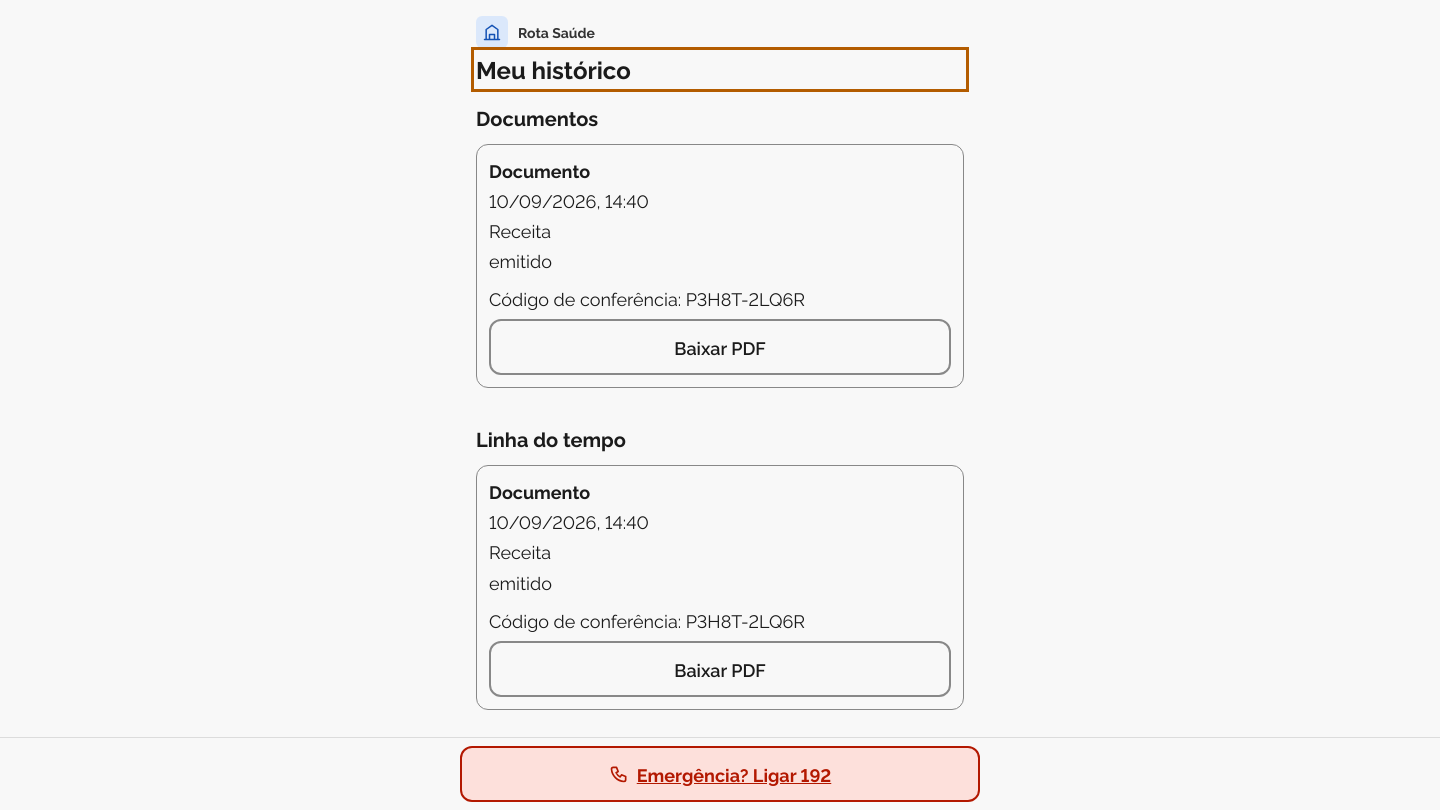
Test: MyHistoryStep — exames (módulo 21a) › documento segue pela rota de documentos
Click the button with aria-label "Baixar PDF de Receita": (720, 669) [489,641,951,697]
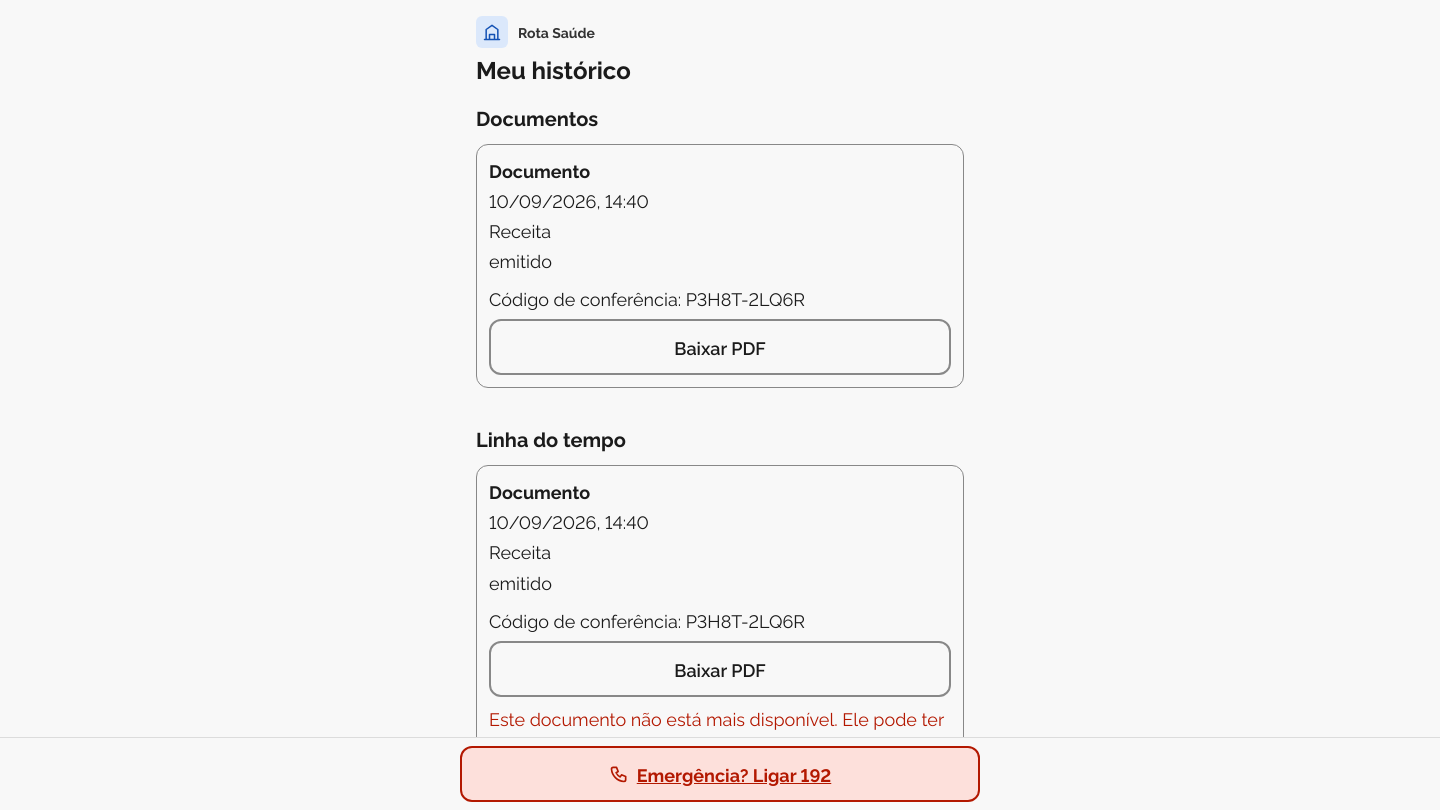
Expected: the message reads "Este documento não está mais disponível. Ele pode ter sido cancelado.", [489,705,944,756]
